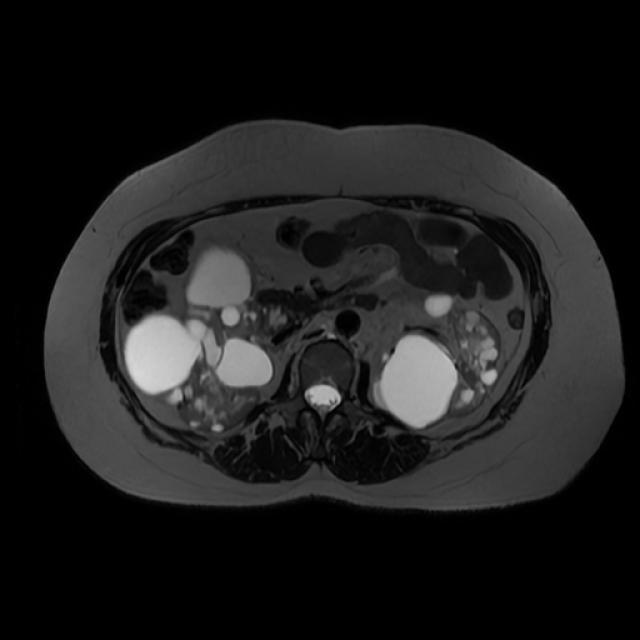sag: (126, 245, 272, 432)
sol: (381, 292, 503, 429)
